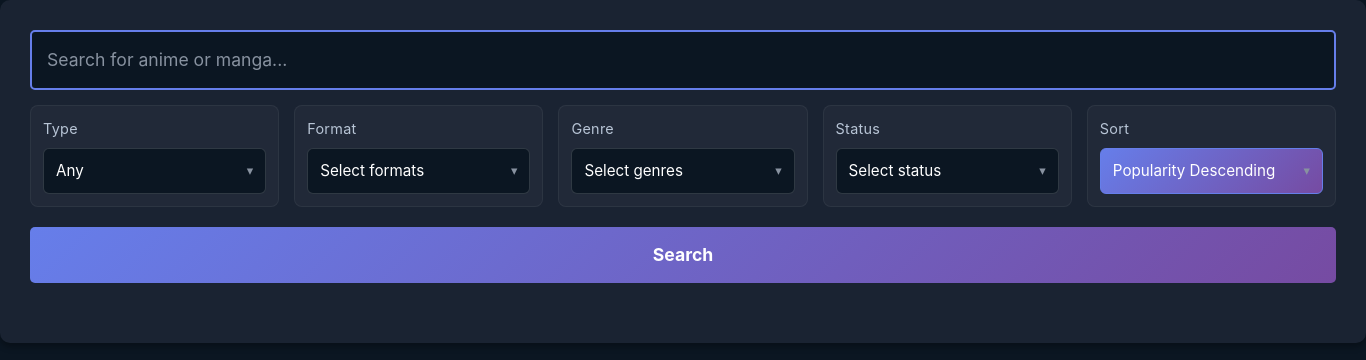
Test: Search Component › Search Functionality › shows loading state during search
Type "Test" into the field with test id "search-input" at (683, 60), box [30, 30, 1336, 90]
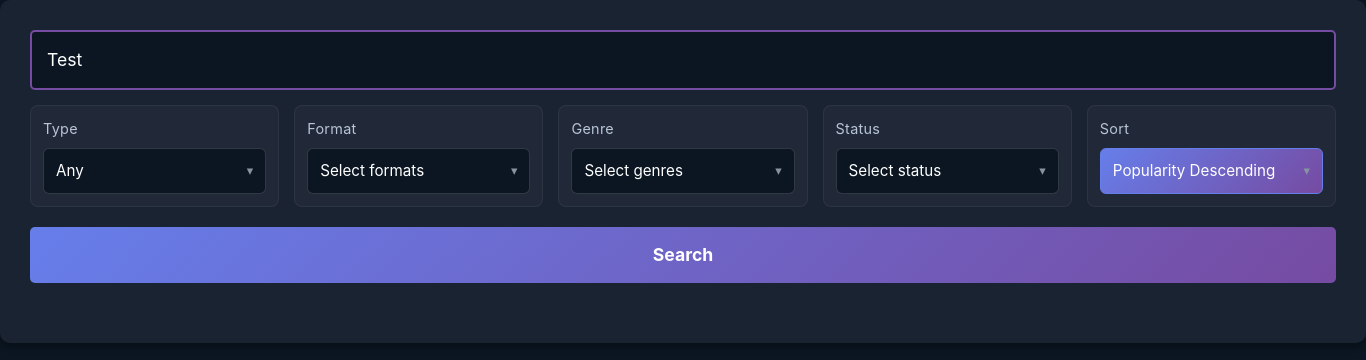
Click the button with test id "search-button" at (683, 255), box [30, 227, 1336, 283]
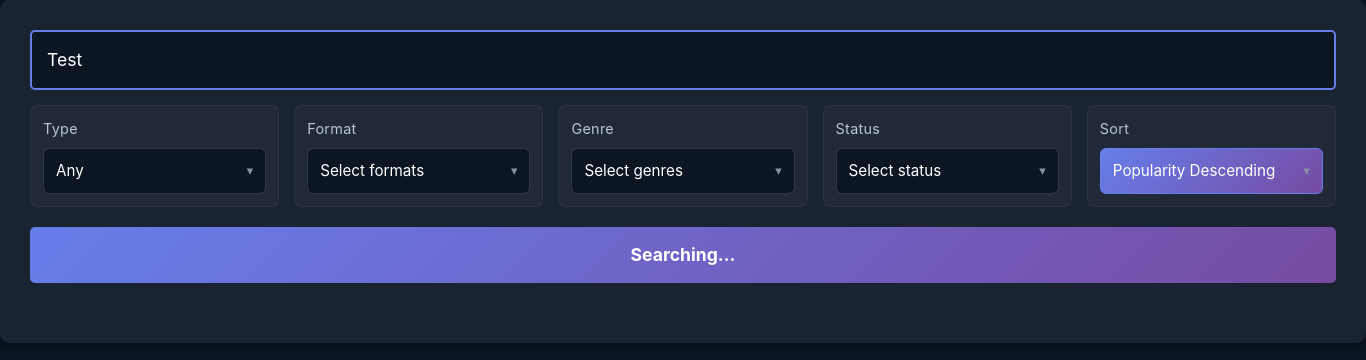
Now the button with test id "search-button" reads "Searching...", box [30, 227, 1336, 283]
Now the button with test id "search-button" is disabled, box [30, 227, 1336, 283]
